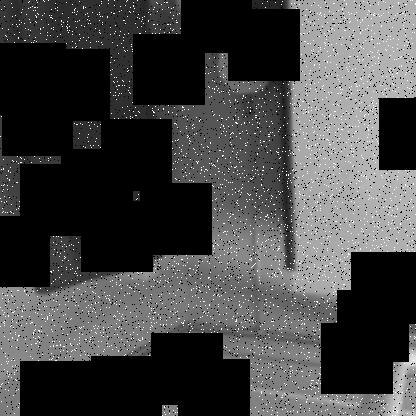Porte: (10, 1, 297, 294)
